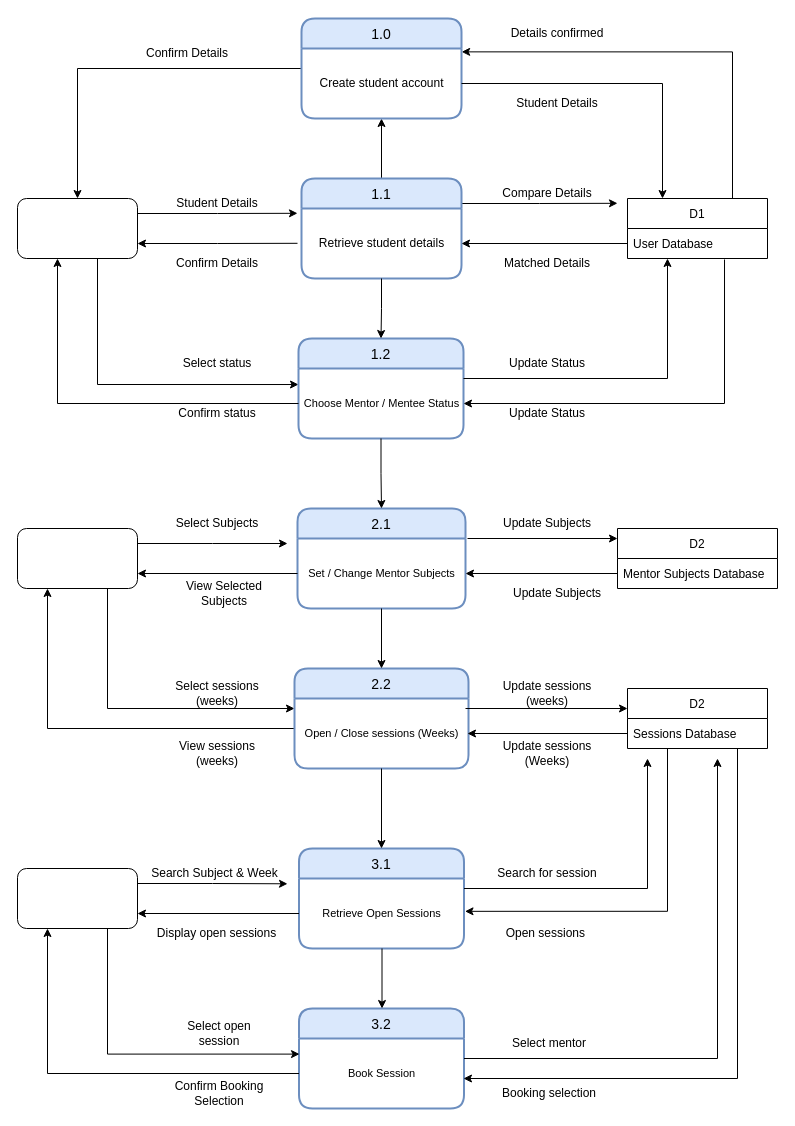
Image size: 795x1126. Some labels were removed from this diagram. The centre of each missing label's shape, as x and y in pixels:
Mentee: the point at 77,898
Mentor: the point at 77,558
Student: the point at 77,228
